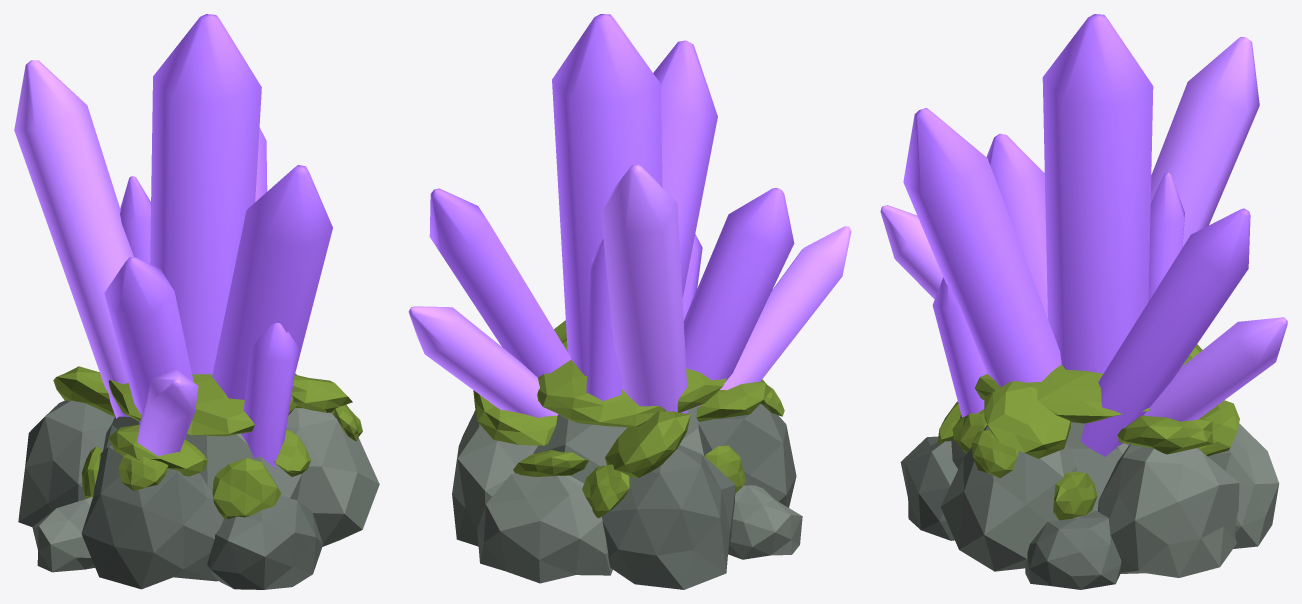
Rendered from 16-crystals.glb.
3 renders of one model, left to right at view 1: azimuth 30°, elevation 25°; view 2: azimuth 150°, elevation 25°; view 3: azimuth 270°, elevation 25°, orthographic.
Visible parts, largest first — view 1: Crystals; view 2: Crystals; view 3: Crystals.
Boxes of the visible parts, x1,y1,x2,y2 form: Crystals: [14, 14, 379, 589]; Crystals: [408, 14, 851, 589]; Crystals: [880, 14, 1287, 589].
Bounding box in the file's own units: 1.32 × 2 × 1.45.
